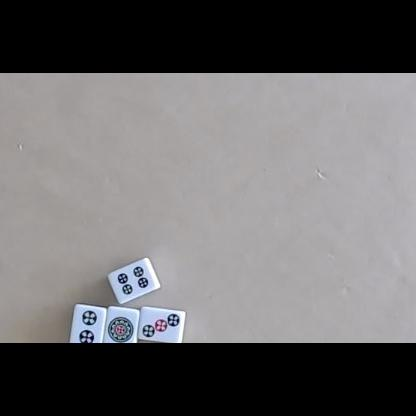1p: (108, 315, 135, 343)
2p: (78, 309, 97, 343)
3p: (143, 313, 181, 338)
4p: (117, 265, 149, 296)
